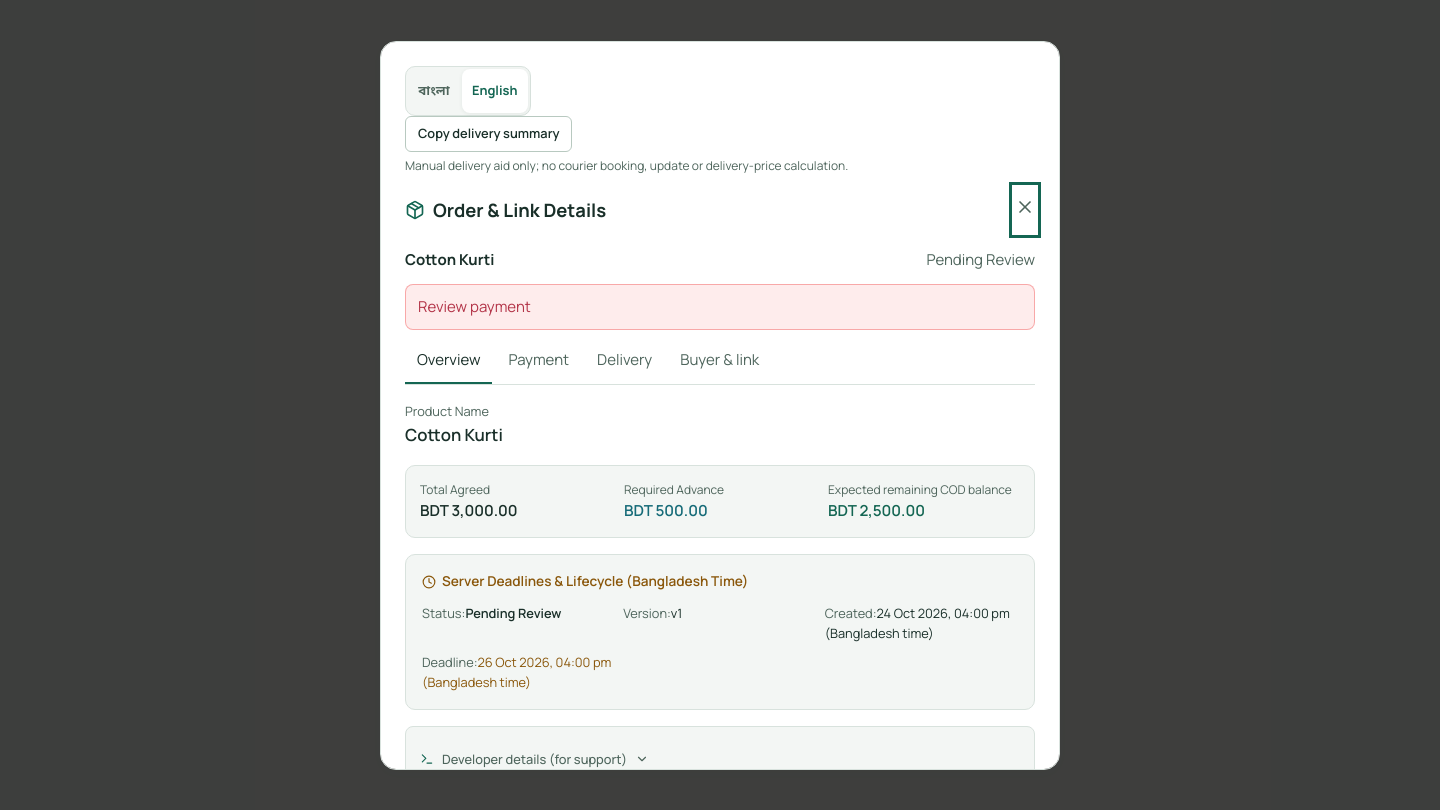
Test: Order Reconciliation and Review UI › navigates order sections with tabs, footer controls, and the payment alert
The image size is (1440, 810).
expect the dialog shows "Cotton Kurti": met, box top-left (405, 249), bottom-right (494, 270)
Click the button with class "order-detail-alert" at (474, 307), box top-left (405, 284), bottom-right (1035, 330)
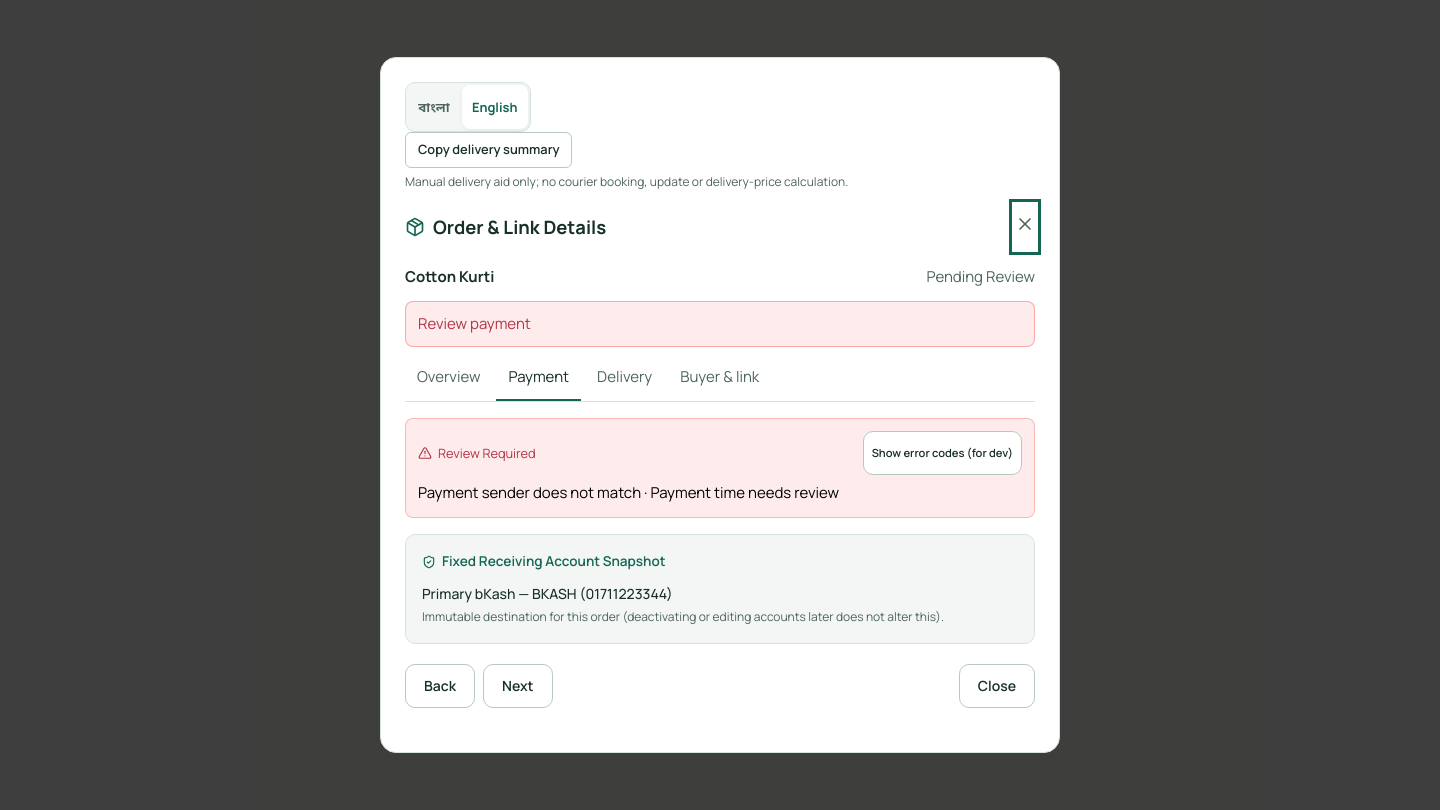
expect the tab "Payment" is selected: met
Press ArrowRight in the tab "Payment", box top-left (496, 355), bottom-right (581, 401)
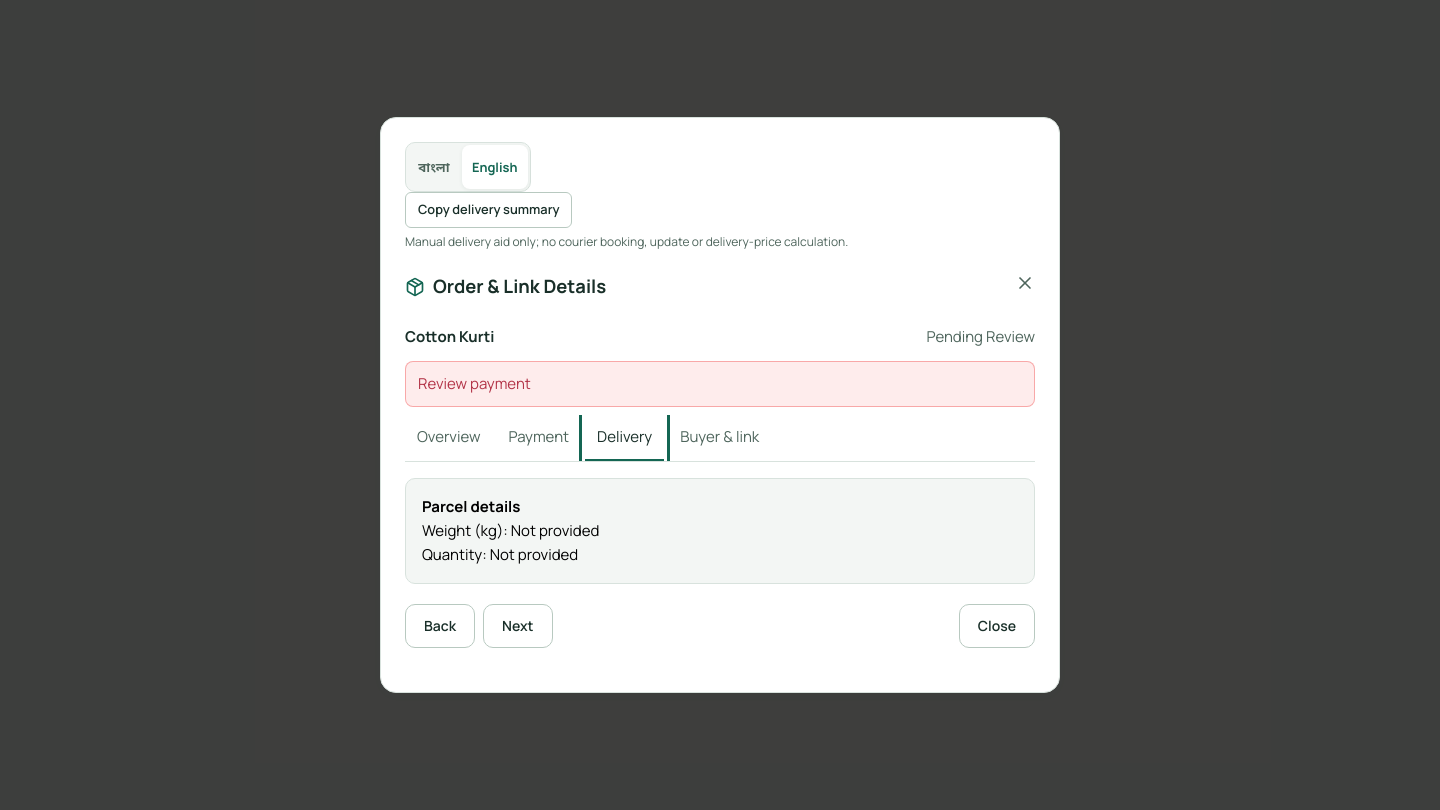
Click the button "Next" at (518, 626), box top-left (483, 604), bottom-right (552, 648)
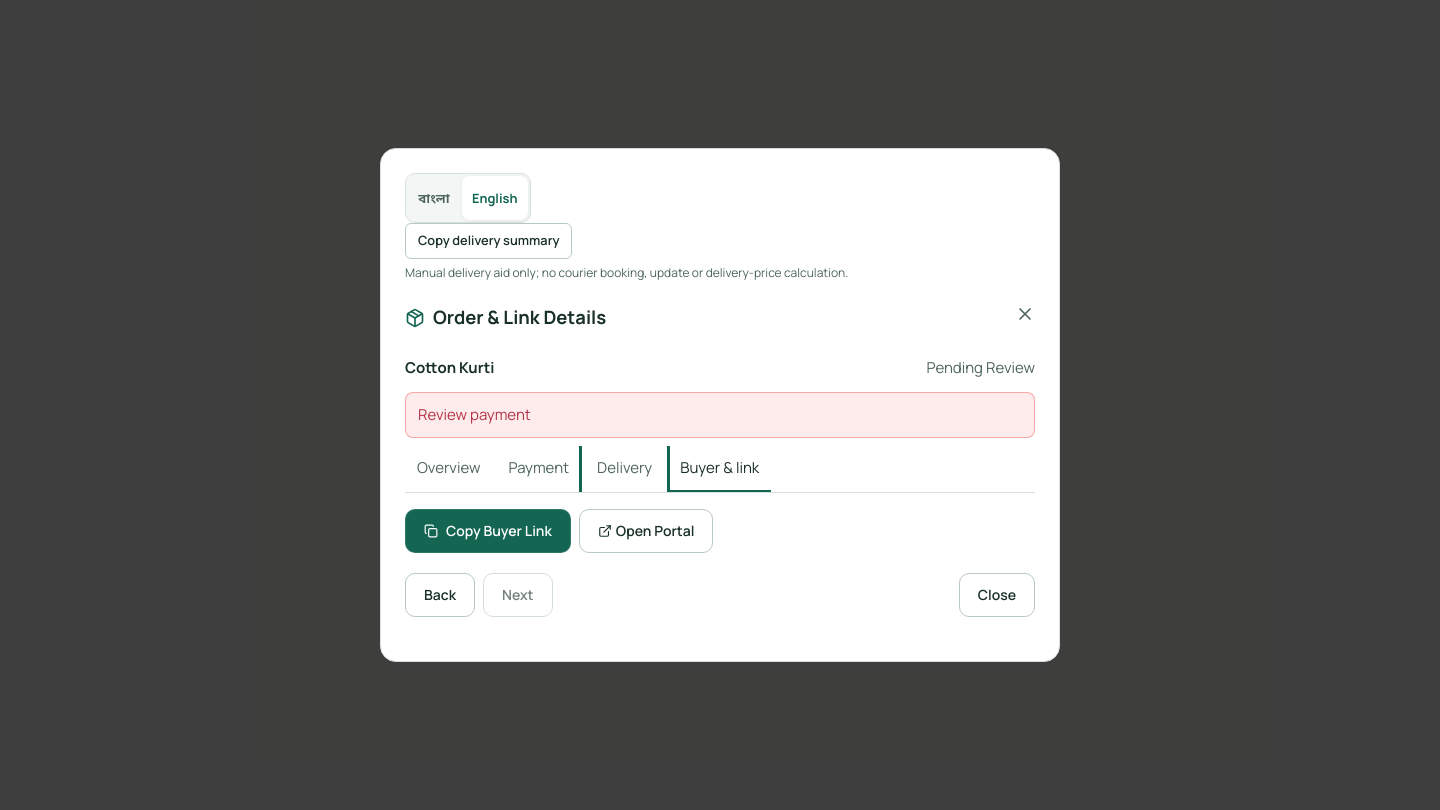
expect the button "Next" is disabled: met, box top-left (483, 573), bottom-right (552, 617)
